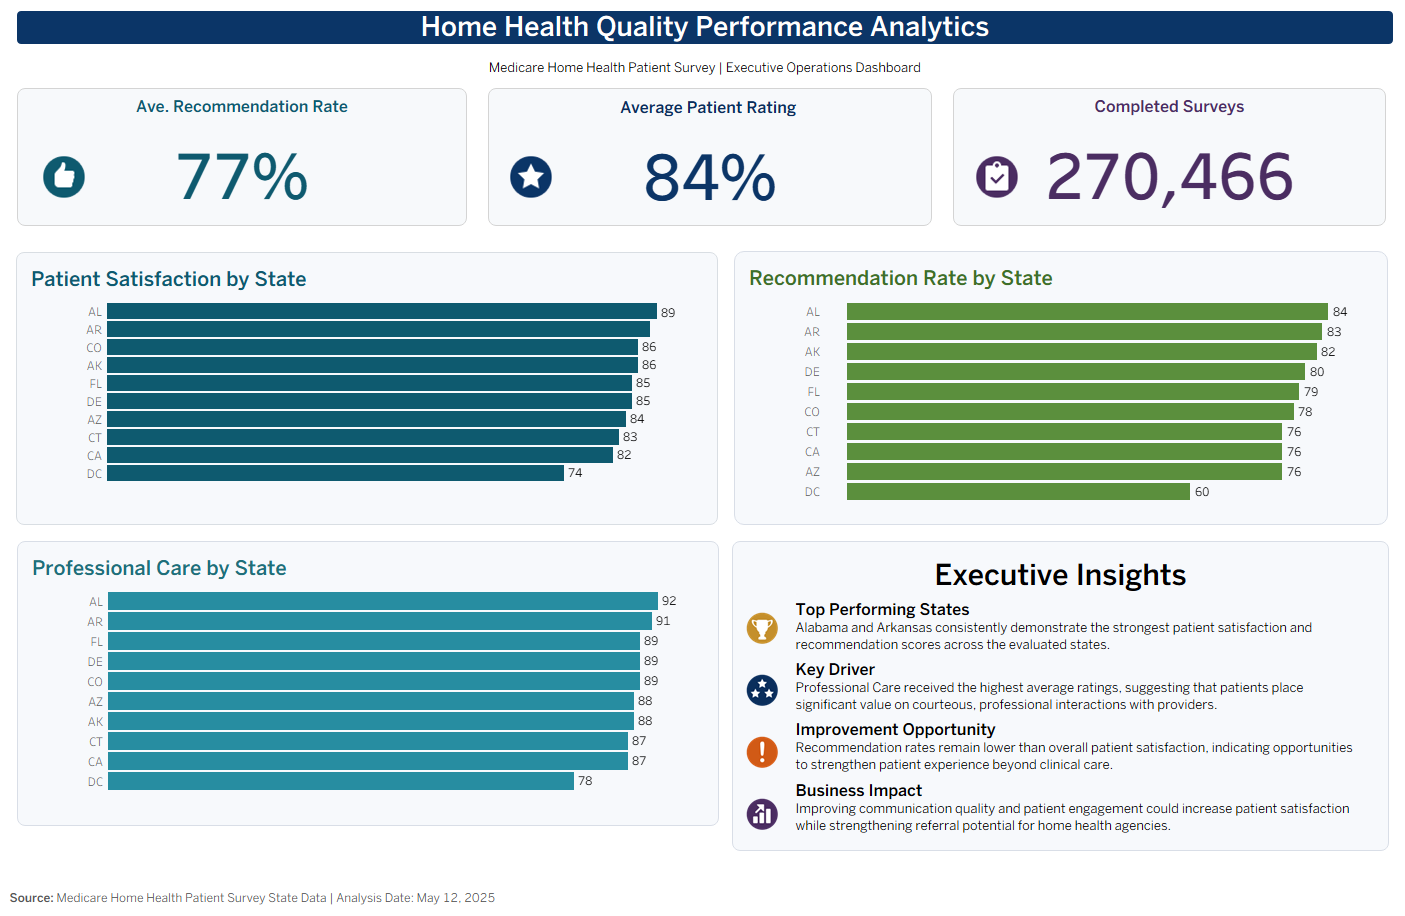

The dashboard page shown, as its layout file describes it:
{"tool":"tableau","page":{"name":"Executive Dashboard","canvas":[1400,900],"ordinal":0},"visuals":[{"type":"title","box":[8,8,1384,41]},{"type":"image","param":"C:/Users/angel/Downloads/icons8-out-patient-department-50.png","box":[361,15,27,27]},{"type":"text","box":[8,49,1384,32]},{"type":"image","param":"C:/Users/angel/Downloads/icons8-home-care-24.png","box":[8,81,1384,32]},{"type":"worksheet","title":"KPI - Avg Recommendation Rate","mark":"Automatic","box":[4,83,466,150]},{"type":"worksheet","title":"KPI - Avg Patient Rating","mark":"Automatic","box":[475,83,460,150]},{"type":"worksheet","title":"KPI - Completed Surveys","mark":"Automatic","box":[940,83,449,150]},{"type":"image","param":"C:/Users/angel/Downloads/icons8-thumbs-up-48.png","box":[34,153,50,50]},{"type":"image","param":"C:/Users/angel/Downloads/icons8-rating-circled-48.png","box":[501,153,50,50]},{"type":"image","param":"C:/Users/angel/Downloads/icons8-work-authorisation-48 (1).png","box":[967,153,50,50]},{"type":"worksheet","title":"Recommendation Rate by State","mark":"Bar","rows":["State Abbreviation"],"cols":["Patients Reported Yes To Recommend HHA To Friends And Family"],"box":[730,253,652,272]},{"type":"worksheet","title":"State Performance","mark":"Bar","rows":["State Abbreviation"],"cols":["Patients Who Gave 9 or 10 HHA Rating"],"box":[22,264,680,251]},{"type":"worksheet","title":"Professional Care by State","mark":"Bar","rows":["State Abbreviation"],"cols":["HHT Health Care Given in Professional Way"],"box":[23,553,680,263]},{"type":"text","box":[744,555,623,43]},{"type":"text","box":[744,598,623,60.2]},{"type":"image","param":"C:/Users/angel/Downloads/icons8-trophy-64 (1).png","box":[741,613,32,32]},{"type":"text","box":[744,658.2,623,60.2]},{"type":"image","param":"C:/Users/angel/Downloads/icons8-three-stars-64.png","box":[741,675,32,32]},{"type":"text","box":[744,718.5,623,60.2]},{"type":"image","param":"C:/Users/angel/Downloads/icons8-box-important-64 (1).png","box":[741,737,32,32]},{"type":"text","box":[744,778.7,623,60.3]},{"type":"image","param":"C:/Users/angel/Downloads/icons8-positive-dynamic-64.png","box":[741,799,32,32]}]}

Visuals, with their boxes in screenshot pixels (x1, y1, x2, y2), scaled from the page's 1400x900 canvas onto the 1405x916 screenshot:
title: [left=8, top=8, right=1397, bottom=50]
image: [left=362, top=15, right=389, bottom=43]
text: [left=8, top=50, right=1397, bottom=82]
image: [left=8, top=82, right=1397, bottom=115]
"KPI - Avg Recommendation Rate" worksheet: [left=4, top=84, right=472, bottom=237]
"KPI - Avg Patient Rating" worksheet: [left=477, top=84, right=938, bottom=237]
"KPI - Completed Surveys" worksheet: [left=943, top=84, right=1394, bottom=237]
image: [left=34, top=156, right=84, bottom=207]
image: [left=503, top=156, right=553, bottom=207]
image: [left=970, top=156, right=1021, bottom=207]
"Recommendation Rate by State" worksheet (Bar marks): [left=733, top=257, right=1387, bottom=534]
"State Performance" worksheet (Bar marks): [left=22, top=269, right=705, bottom=524]
"Professional Care by State" worksheet (Bar marks): [left=23, top=563, right=706, bottom=831]
text: [left=747, top=565, right=1372, bottom=609]
text: [left=747, top=609, right=1372, bottom=670]
image: [left=744, top=624, right=776, bottom=656]
text: [left=747, top=670, right=1372, bottom=731]
image: [left=744, top=687, right=776, bottom=720]
text: [left=747, top=731, right=1372, bottom=793]
image: [left=744, top=750, right=776, bottom=783]
text: [left=747, top=793, right=1372, bottom=854]
image: [left=744, top=813, right=776, bottom=846]
